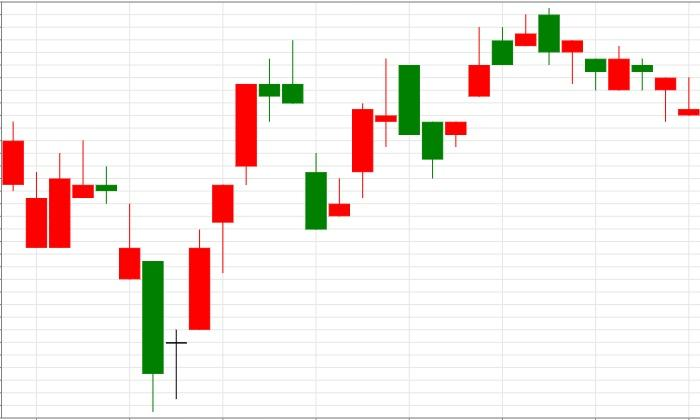bearish_engulfing_fall: (422, 7, 560, 178)
three_white_soldiers_rise: (96, 84, 257, 412)
